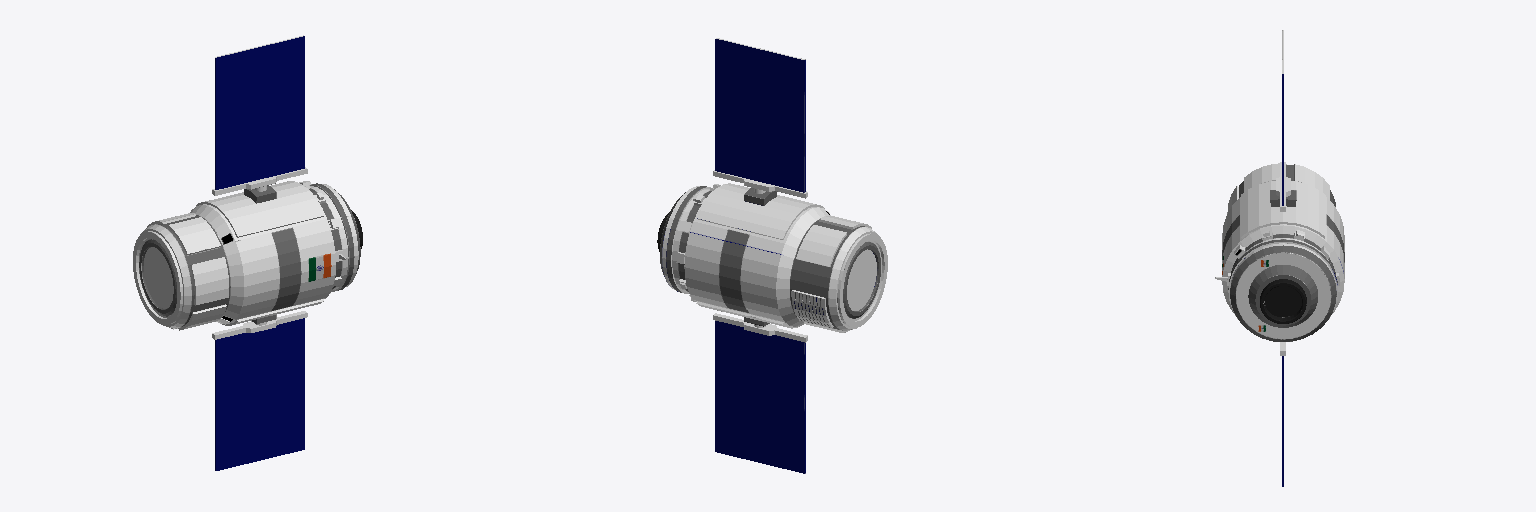
3 renders of one model, left to right at view 1: azimuth 30°, elevation 25°; view 2: azimuth 150°, elevation 25°; view 3: azimuth 270°, elevation 25°, orthographic.
Visible parts, largest first — view 1: Cylinder_combined_texture.001; view 2: Cylinder_combined_texture.001; view 3: Cylinder_combined_texture.001.
Boxes of the visible parts, <box> form: Cylinder_combined_texture.001: <box>133,35,362,470</box>; Cylinder_combined_texture.001: <box>657,38,887,473</box>; Cylinder_combined_texture.001: <box>1215,30,1344,486</box>.
Size of the model in its own units: 4.22 by 8.53 by 2.42.
Materials: 1 (1 with a texture image).